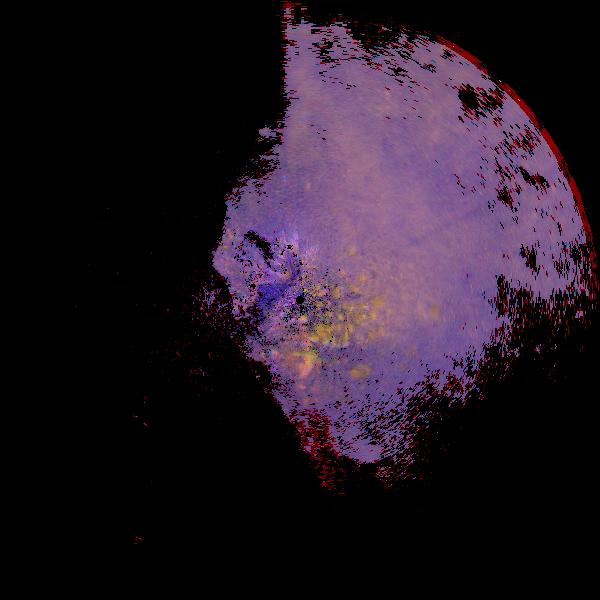roost: (276, 346, 327, 397)
